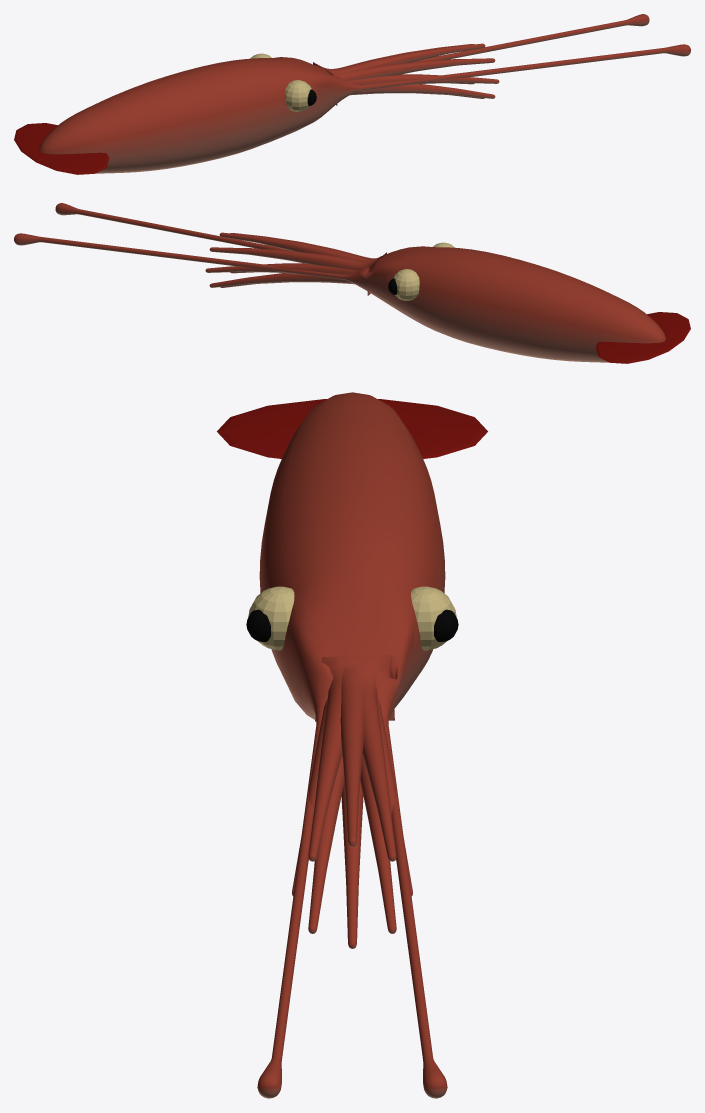
The model's file is lula_gigante.glb.
3 renders of one model, top to bottom at view 1: azimuth 30°, elevation 25°; view 2: azimuth 150°, elevation 25°; view 3: azimuth 270°, elevation 25°, orthographic. The views are drawn at different scales.
Parts seen in each view (by area): view 1: corpo; view 2: corpo; view 3: corpo.
Boxes of the visible parts, x1=… form: corpo: x1=14, y1=14, x2=690, y2=174; corpo: x1=14, y1=203, x2=690, y2=363; corpo: x1=217, y1=392, x2=487, y2=1098.
Size of the model in its own units: 7.79 by 1.1 by 1.43.
